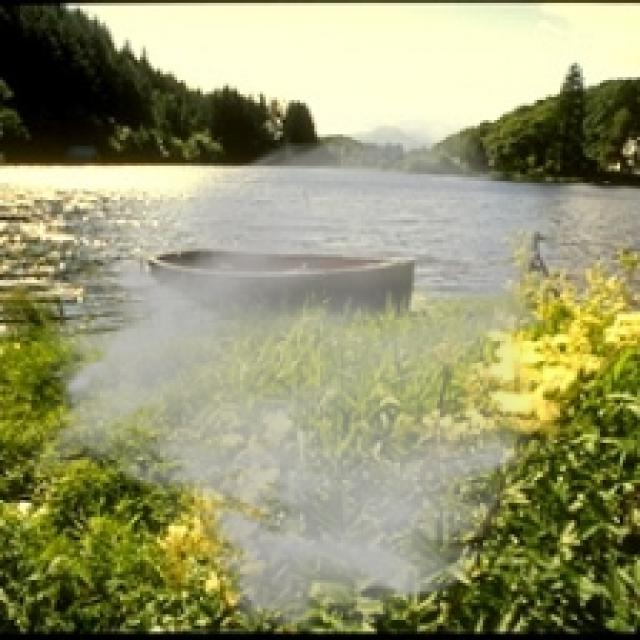smoke: (26, 114, 571, 637)
